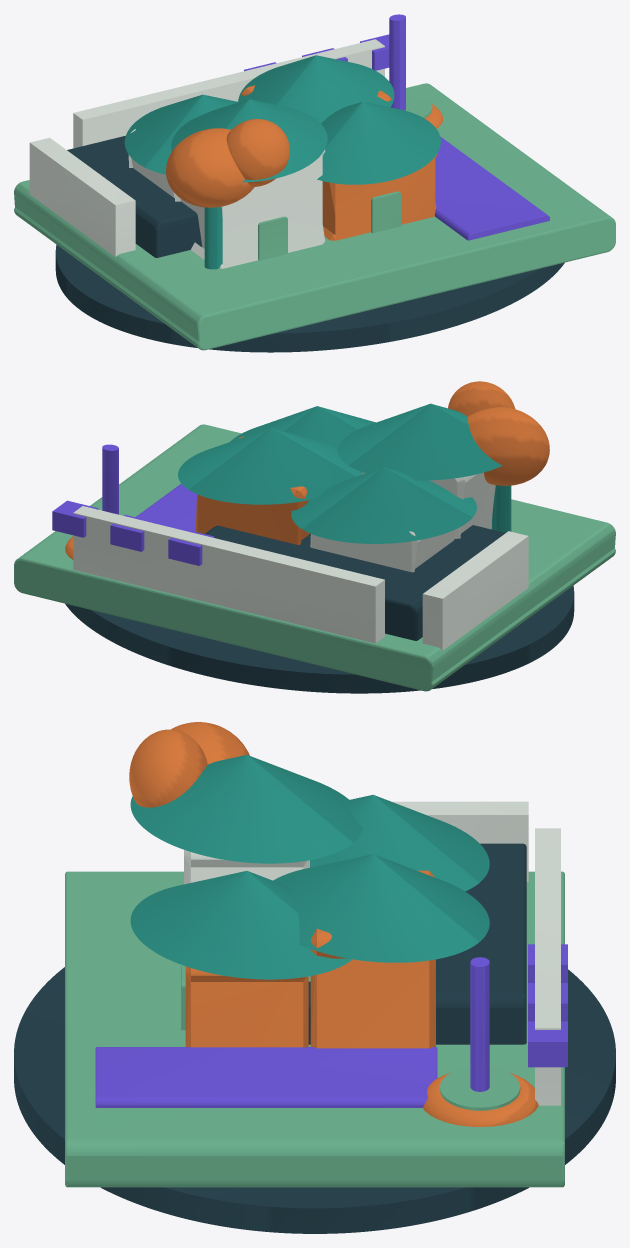
File: 0738_先秦图鉴_半坡聚落.glb
3 views of the same model, one above another, from view 1: azimuth 30°, elevation 25°; view 2: azimuth 150°, elevation 25°; view 3: azimuth 270°, elevation 25° (orthographic). The views are drawn at different scales.
Parts seen in each view (by area): view 1: card_0738; view 2: card_0738; view 3: card_0738.
Boxes of the visible parts, box(x1,y1,x2,y2) form: card_0738: box(14, 14, 615, 352); card_0738: box(14, 381, 615, 693); card_0738: box(14, 722, 615, 1233).
Size of the model in its own units: 2.47 by 1 by 2.02.
